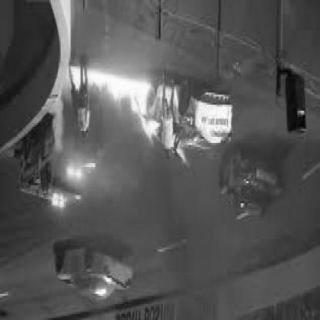Fire: (65, 68, 182, 140), (175, 146, 188, 167)
other: (64, 163, 88, 184)
